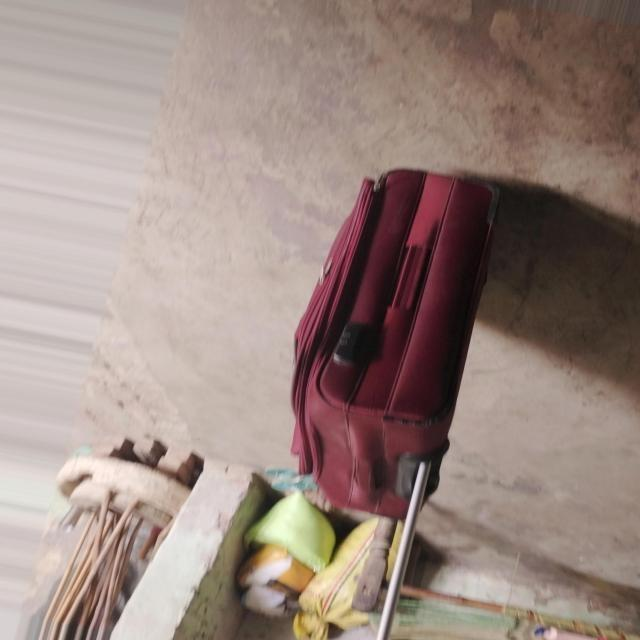Suitcase: (271, 154, 536, 640)
